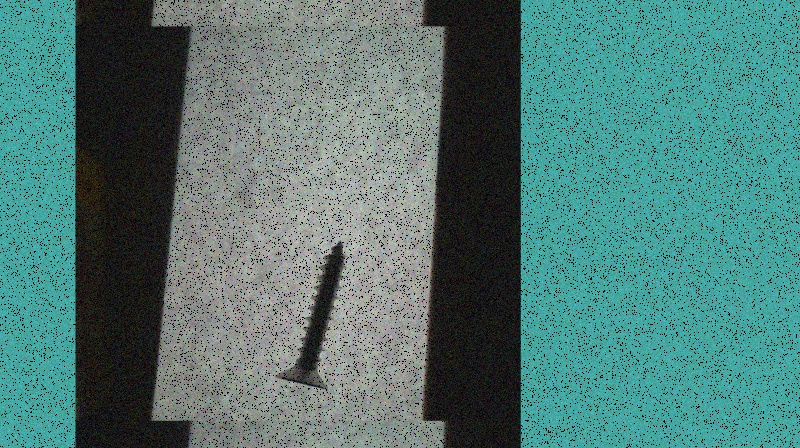S001: (275, 238, 349, 392)
